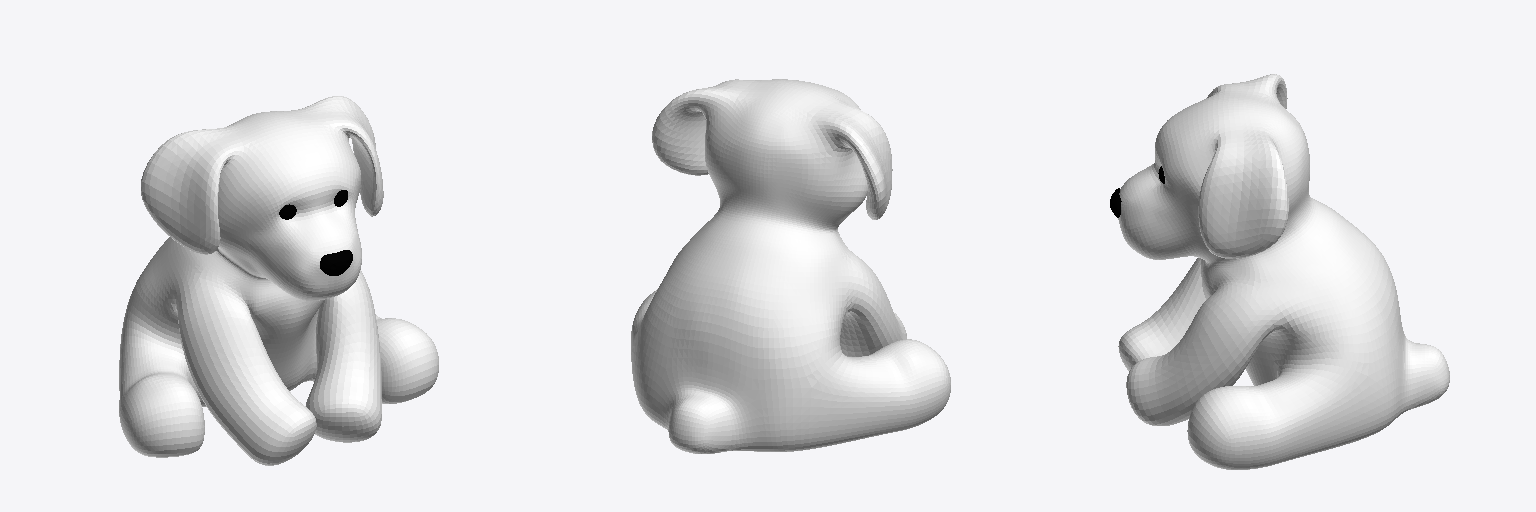
The model's file is 11706_stuffed_animal_L2.obj.
3 renders of one model, left to right at view 1: azimuth 30°, elevation 25°; view 2: azimuth 150°, elevation 25°; view 3: azimuth 270°, elevation 25°, orthographic.
Visible parts, largest first — view 1: toy_dog_body 网格, toy_dog_parts 网格; view 2: toy_dog_body 网格; view 3: toy_dog_body 网格.
Boxes of the visible parts, x1=… form: toy_dog_body 网格: x1=119, y1=96, x2=438, y2=465; toy_dog_parts 网格: x1=279, y1=190, x2=352, y2=275; toy_dog_body 网格: x1=631, y1=79, x2=950, y2=453; toy_dog_body 网格: x1=1118, y1=74, x2=1449, y2=469.
Bounding box in the file's own units: 0.2528 × 0.2395 × 0.2444.